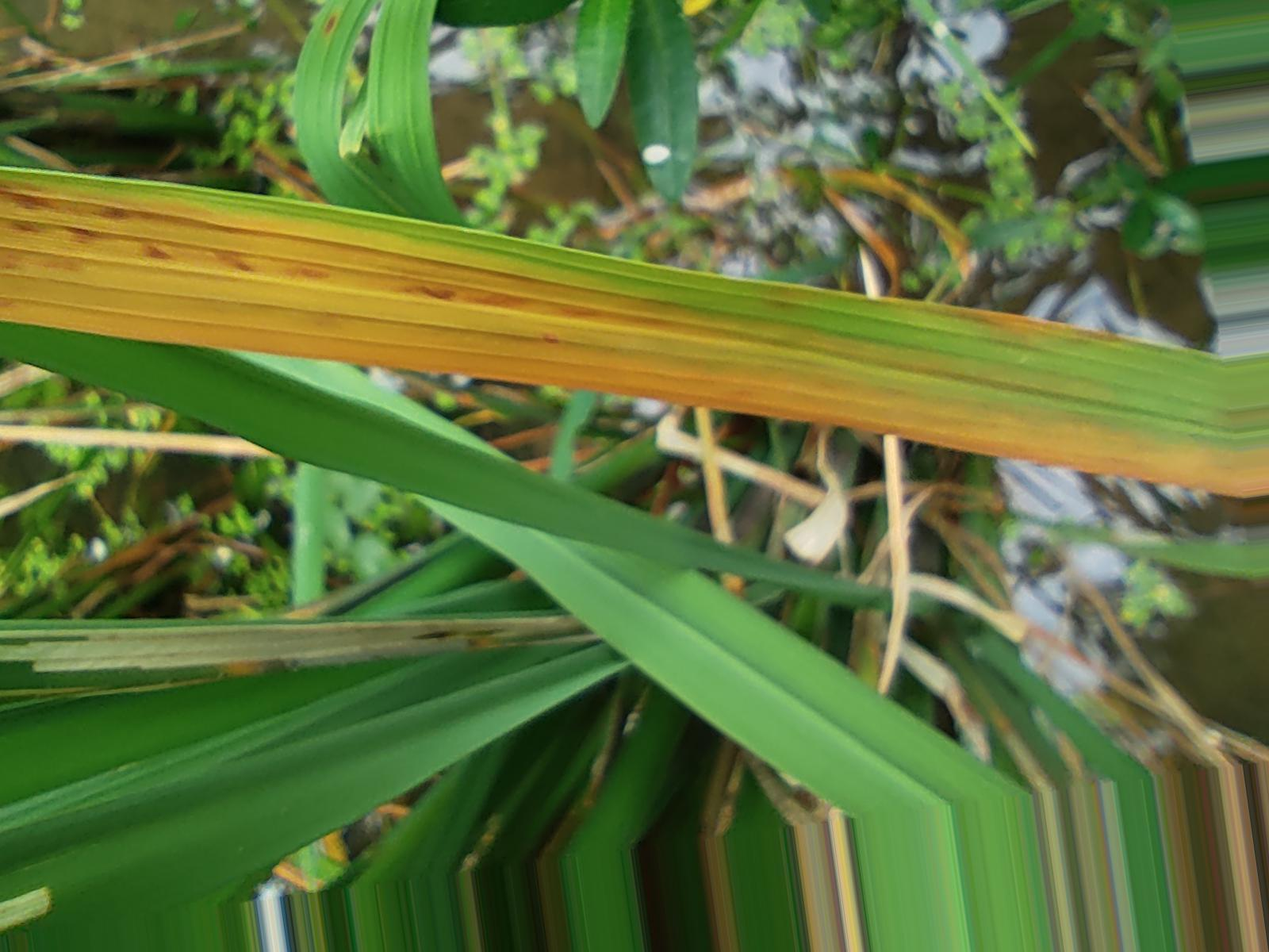LEAF: (0, 167, 1232, 495)
NBS: (212, 251, 256, 272), (407, 287, 454, 300), (137, 245, 174, 261), (61, 225, 99, 237), (11, 220, 41, 232)
